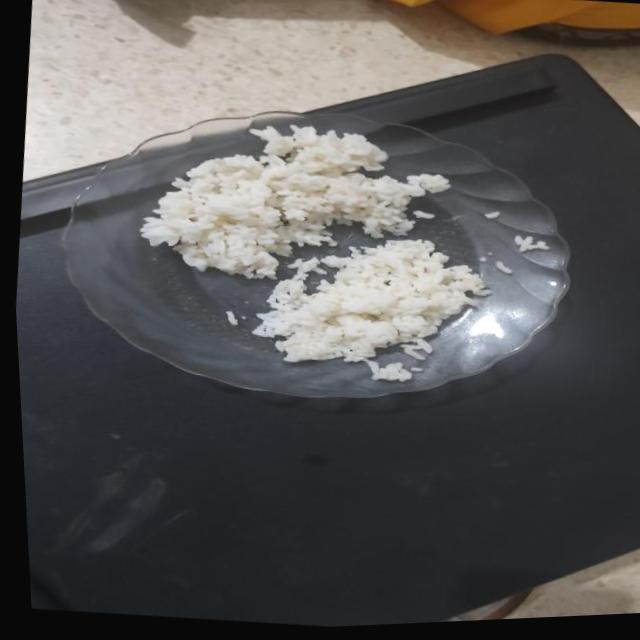nasi_putih: (140, 124, 450, 278), (252, 239, 490, 362)
